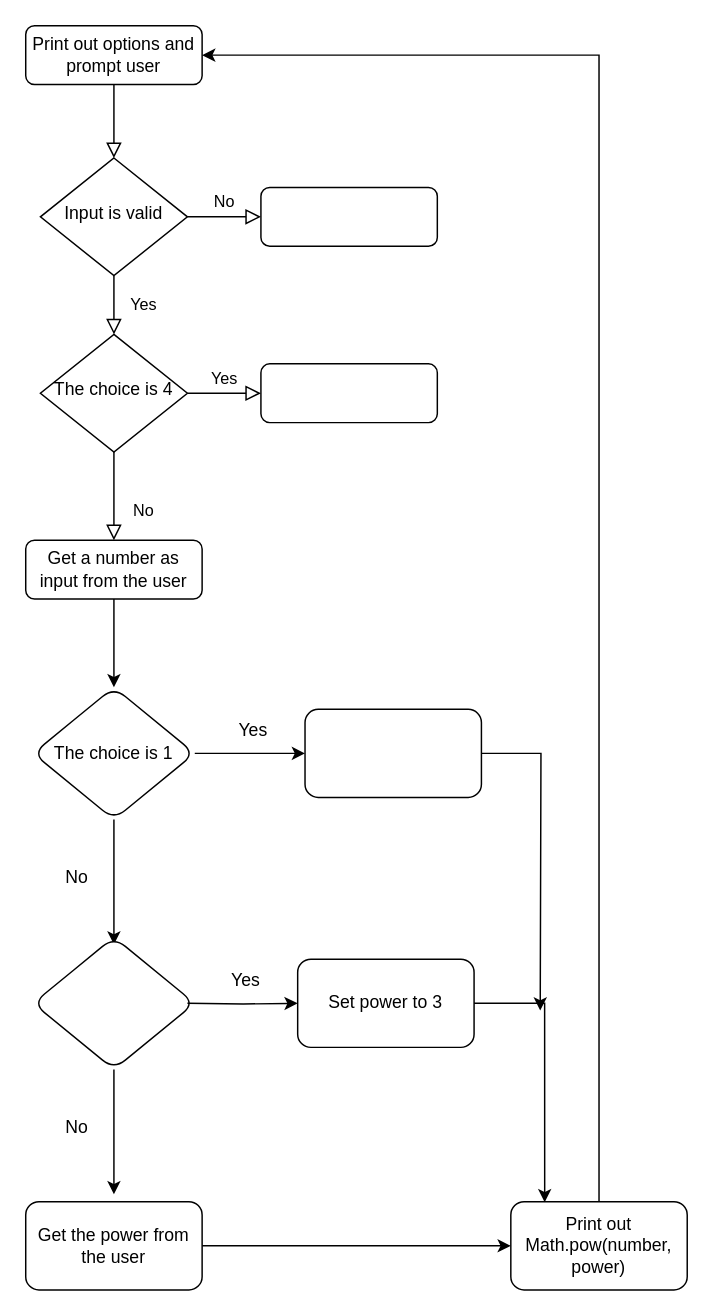
Image size: 713x1316. Some labels were removed from this diagram. The shapes that lost their labels are listed below. From the top down, each one's centre as x and y in pixels, then its label:
pixel 348 216: Tell user input is invalid and exit
pixel 348 392: Print farewell message and exit
pixel 392 752: Set power to 2
pixel 113 1002: The choice is 2
